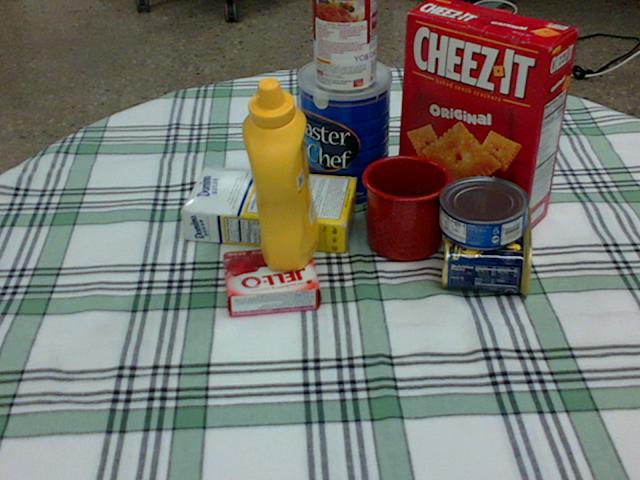cracker_box: (396, 0, 579, 234)
gelatin_box: (225, 246, 321, 316)
master_chef_can: (297, 55, 391, 207)
mug: (363, 154, 454, 260)
mustard_bottle: (242, 76, 317, 270)
potted_meat_can: (441, 200, 532, 292)
sugar_box: (179, 165, 356, 252)
tomato_soup_can: (313, 0, 378, 92)
tuna_fish_can: (439, 177, 528, 248)
